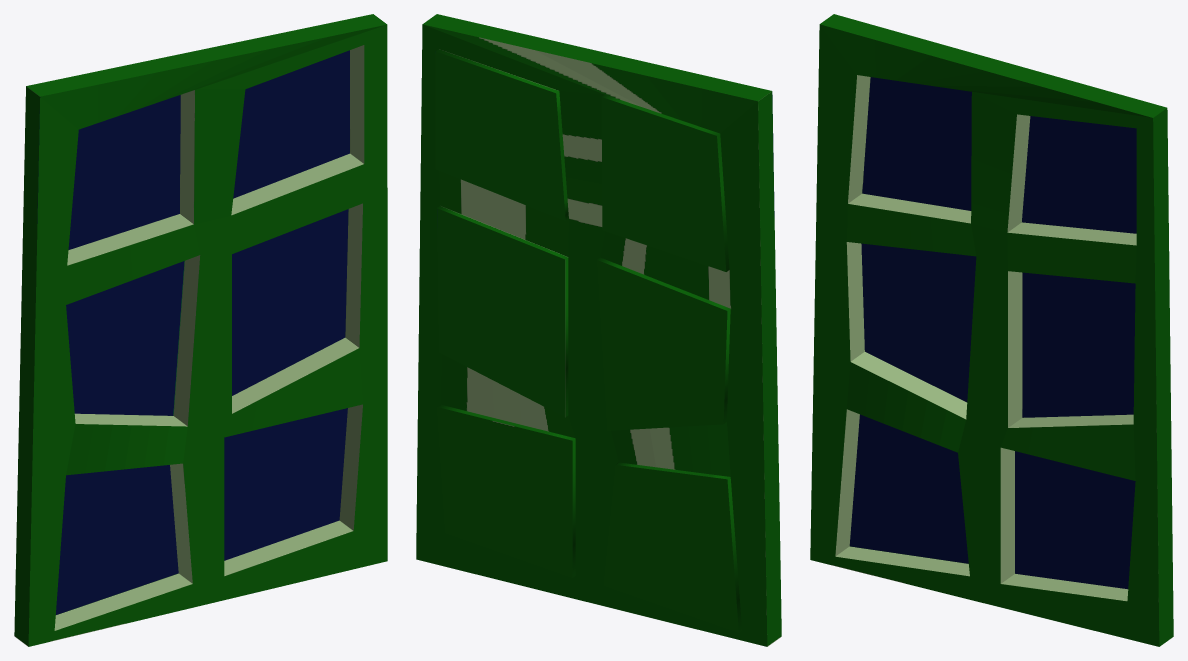
The model's file is Ventana 6(ESCALADO).fbx.
The picture shows the model from 3 angles, left to right: view 1: azimuth 30°, elevation 25°; view 2: azimuth 150°, elevation 25°; view 3: azimuth 330°, elevation 25°; orthographic projection.
Visible parts, largest first — view 1: Ventana_6; view 2: Ventana_6; view 3: Ventana_6.
Part boxes in pixels (x1=…): Ventana_6: x1=14, y1=14, x2=387, y2=646; Ventana_6: x1=416, y1=14, x2=781, y2=646; Ventana_6: x1=810, y1=14, x2=1173, y2=646.
Size of the model in its own units: 0.6524 by 0.9569 by 0.071.
